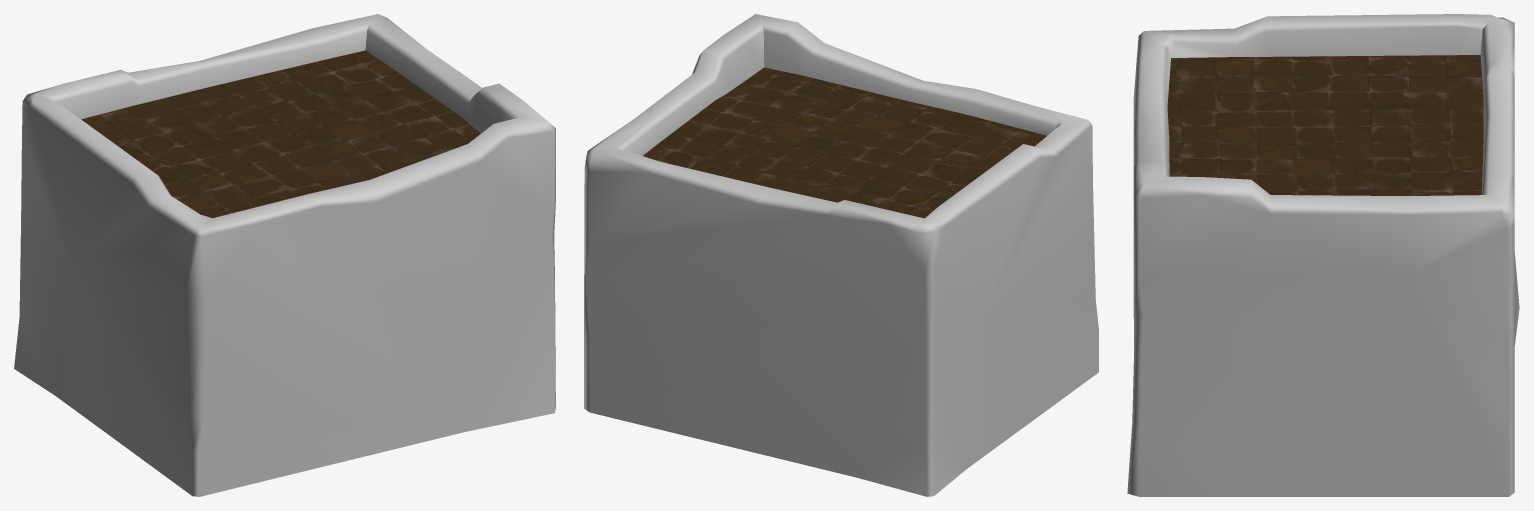
The model's file is lower_city_house_03.fbx.
3 renders of one model, left to right at view 1: azimuth 30°, elevation 25°; view 2: azimuth 150°, elevation 25°; view 3: azimuth 270°, elevation 25°, orthographic. The views are drawn at different scales.
Visible parts, largest first — view 1: lower_city_house_03; view 2: lower_city_house_03; view 3: lower_city_house_03.
Part boxes in pixels (x1,y1,x2,y2): lower_city_house_03: (14, 14, 555, 496); lower_city_house_03: (584, 14, 1098, 496); lower_city_house_03: (1127, 14, 1519, 496).
Bounding box in the file's own units: 5.01 × 3.76 × 4.33.
